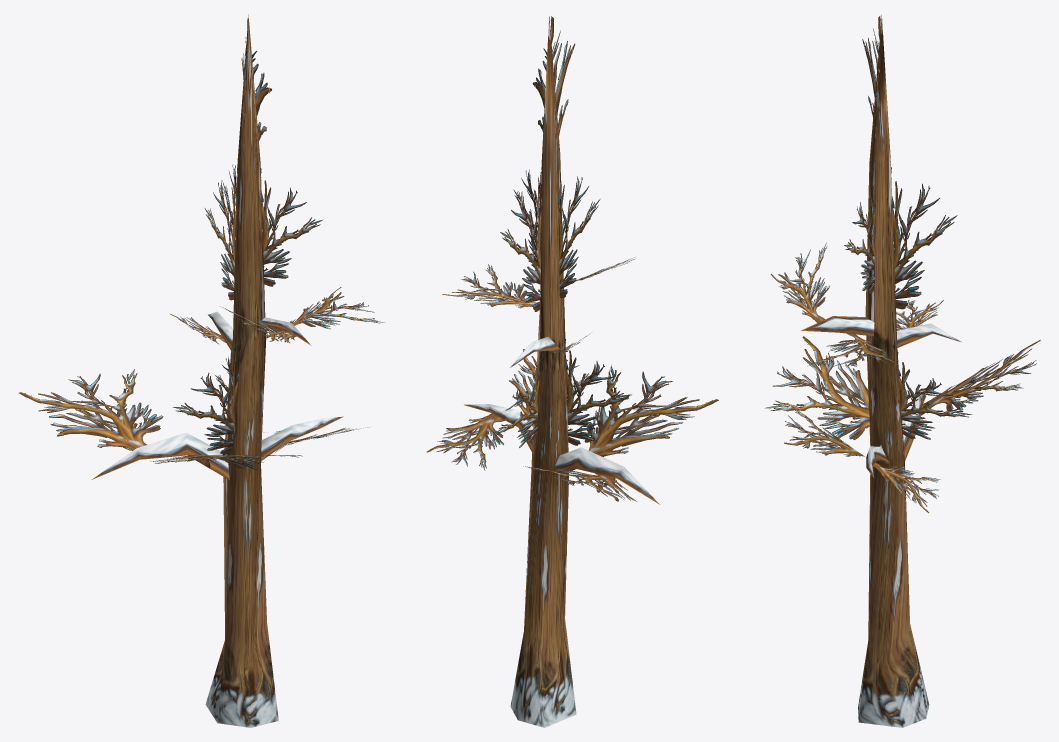
File: winterspringtree02.obj
The picture shows the model from 3 angles, left to right: view 1: azimuth 30°, elevation 25°; view 2: azimuth 150°, elevation 25°; view 3: azimuth 270°, elevation 25°; orthographic projection.
Parts seen in each view (by area): view 1: Geoset2, Geoset1, Geoset0; view 2: Geoset2, Geoset1, Geoset0; view 3: Geoset2, Geoset1, Geoset0.
Part boxes in pixels (bbox=[...]): Geoset2: bbox=[205, 14, 289, 727]; Geoset1: bbox=[19, 18, 384, 469]; Geoset0: bbox=[91, 311, 343, 480]; Geoset2: bbox=[510, 16, 576, 727]; Geoset1: bbox=[427, 16, 718, 501]; Geoset0: bbox=[464, 336, 659, 504]; Geoset2: bbox=[858, 15, 929, 727]; Geoset1: bbox=[765, 16, 1040, 512]; Geoset0: bbox=[801, 316, 961, 477].
Size of the model in its own units: 34.39 by 89.09 by 33.69.
Materials: 3 (3 with a texture image).
